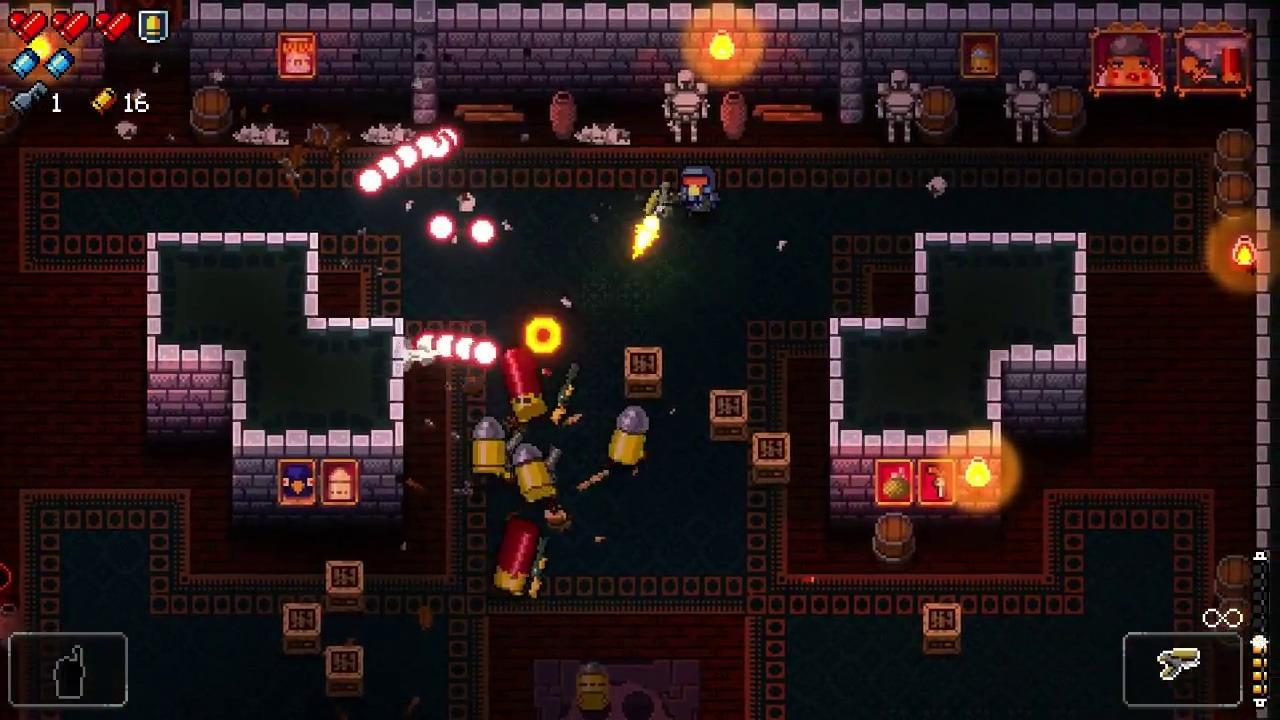bullet: (454, 333, 484, 365), (471, 337, 501, 368), (356, 167, 386, 198), (394, 142, 423, 173), (375, 154, 404, 182), (413, 330, 438, 362), (429, 213, 456, 242), (435, 331, 461, 361), (415, 133, 440, 163), (470, 218, 496, 246)
bullet_kin: (606, 405, 649, 465), (514, 444, 557, 502), (472, 415, 507, 474)
dead_bullet_kin: (576, 660, 611, 711)
player: (679, 163, 720, 217)
red_shotgun_kin: (498, 346, 549, 423), (493, 518, 541, 595)
